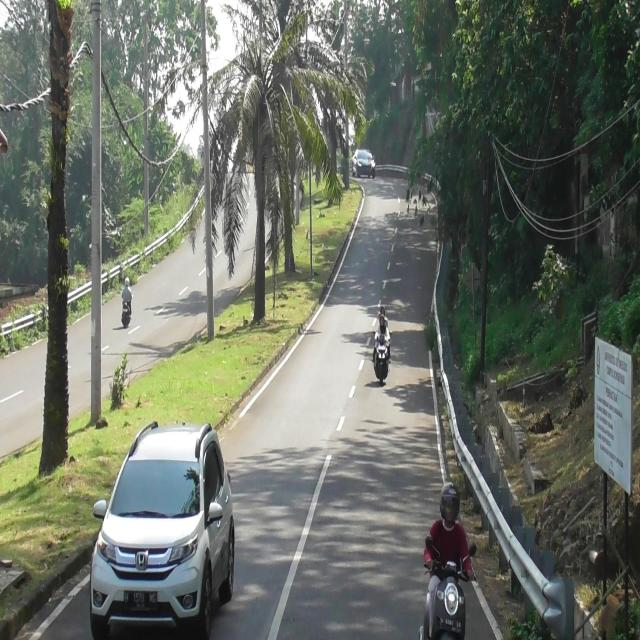motorcycle: (424, 560, 472, 640), (374, 336, 389, 386), (121, 300, 131, 330)
person: (425, 481, 471, 626), (375, 314, 391, 344), (374, 307, 388, 336), (121, 277, 133, 304)
rider_region: (424, 478, 477, 640), (374, 305, 392, 388), (120, 276, 132, 329)
